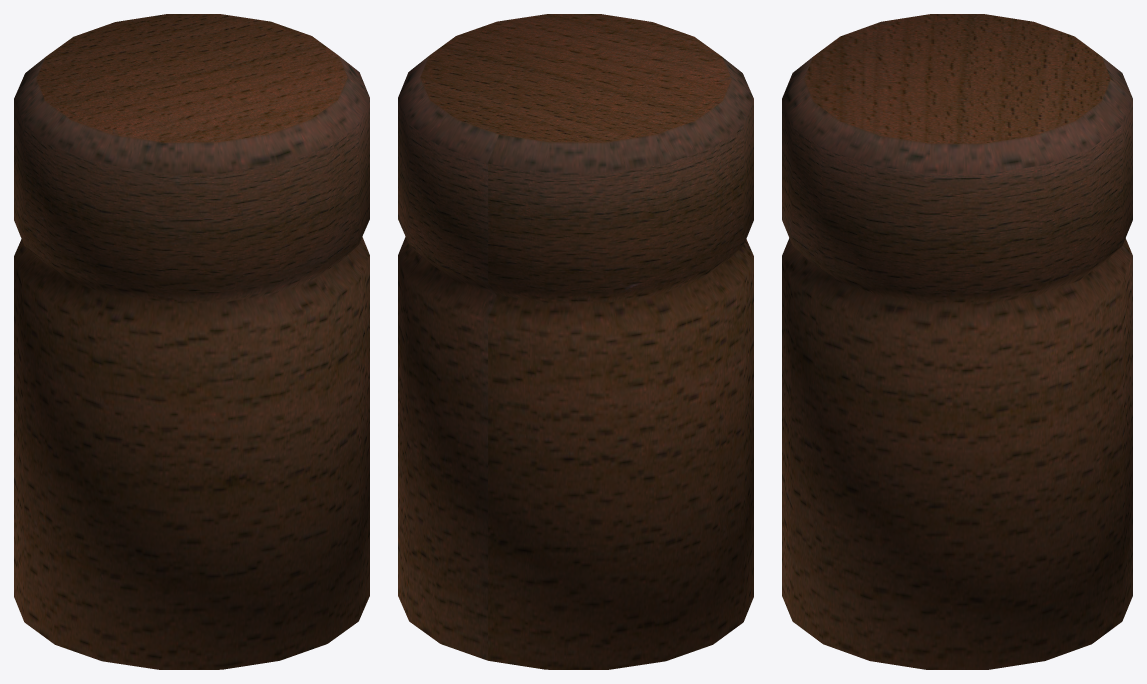
File: Koma_C_S_C2.fbx
The picture shows the model from 3 angles, left to right: view 1: azimuth 30°, elevation 25°; view 2: azimuth 150°, elevation 25°; view 3: azimuth 270°, elevation 25°; orthographic projection.
Parts seen in each view (by area): view 1: Koma_C_S_C2; view 2: Koma_C_S_C2; view 3: Koma_C_S_C2.
Boxes of the visible parts, left/top/right/bottom form: Koma_C_S_C2: left=14, top=14, right=369, bottom=669; Koma_C_S_C2: left=398, top=14, right=753, bottom=669; Koma_C_S_C2: left=782, top=14, right=1132, bottom=669.
Bounding box in the file's own units: 1.6 × 2.6 × 1.6.
Materials: 1 (1 with a texture image).
